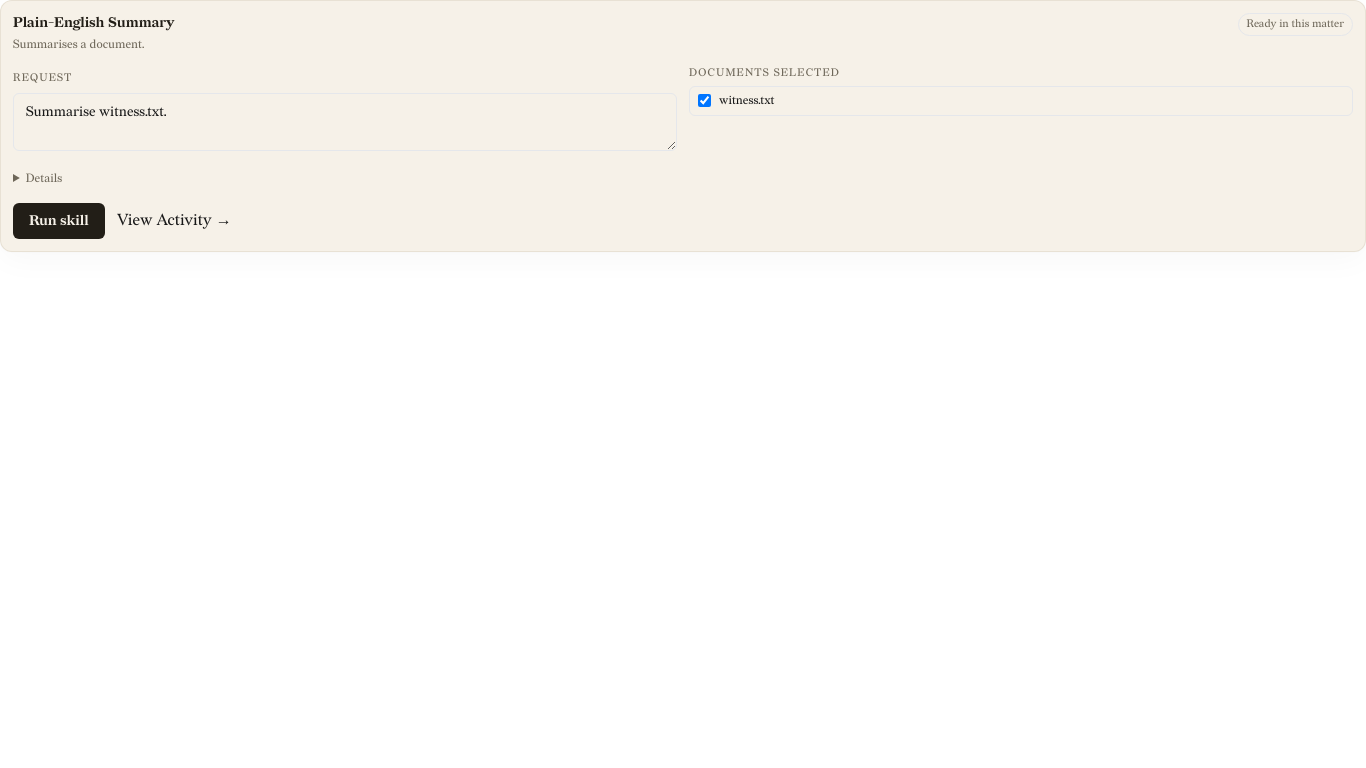
Test: GenericSkillRunner › can close a completed run from the inline runner
Click the button with test id "generic-run-demo.guided-skill-summarise".
click(59, 221)  # box x1=13 y1=203 x2=105 y2=239
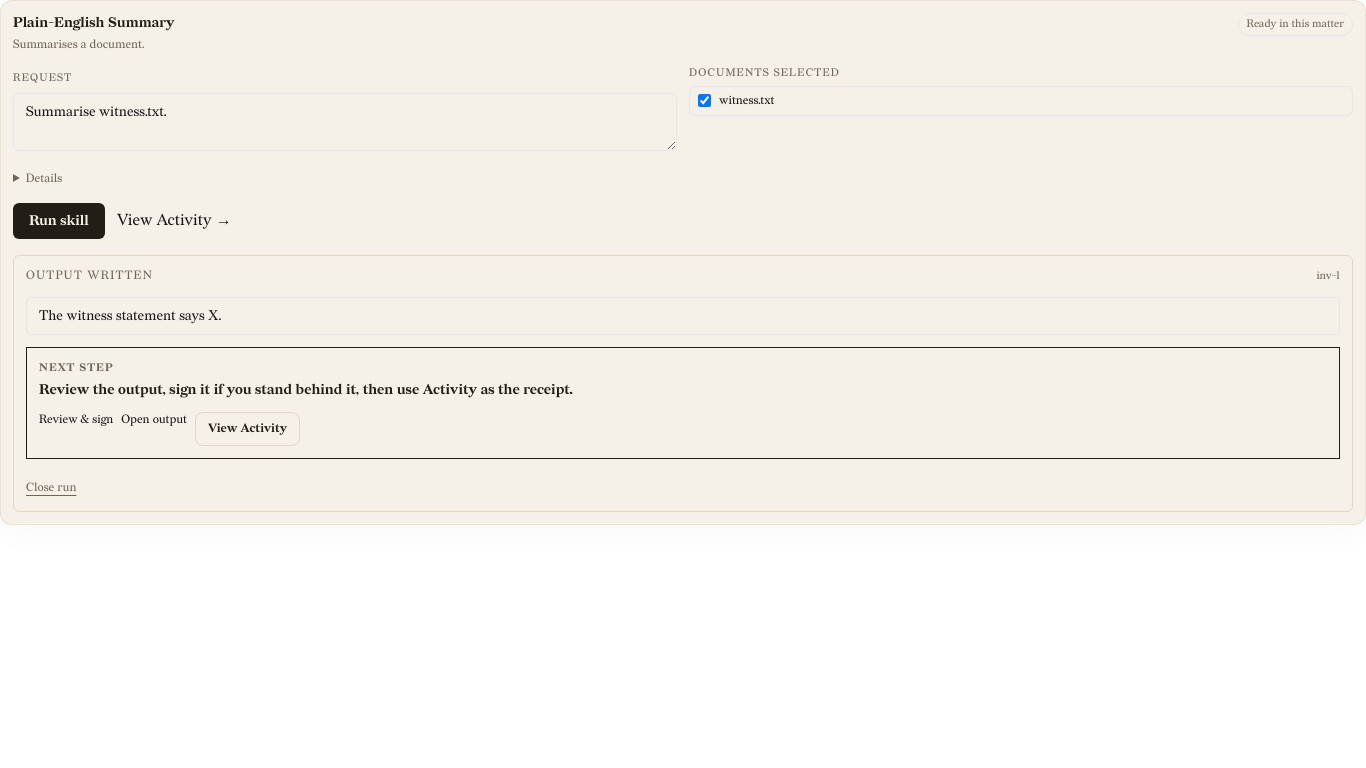
Now the element with test id "generic-runner-result" is shown, box x1=13 y1=255 x2=1353 y2=512
Now the text "The witness statement says X." is shown, box x1=26 y1=296 x2=1340 y2=334
Now the element with test id "generic-runner-next-steps-artifact-1" shows "Review the output, sign it if you stand behind it", box x1=39 y1=381 x2=573 y2=398
Click the button "Close run".
click(51, 488)  # box x1=26 y1=480 x2=76 y2=496
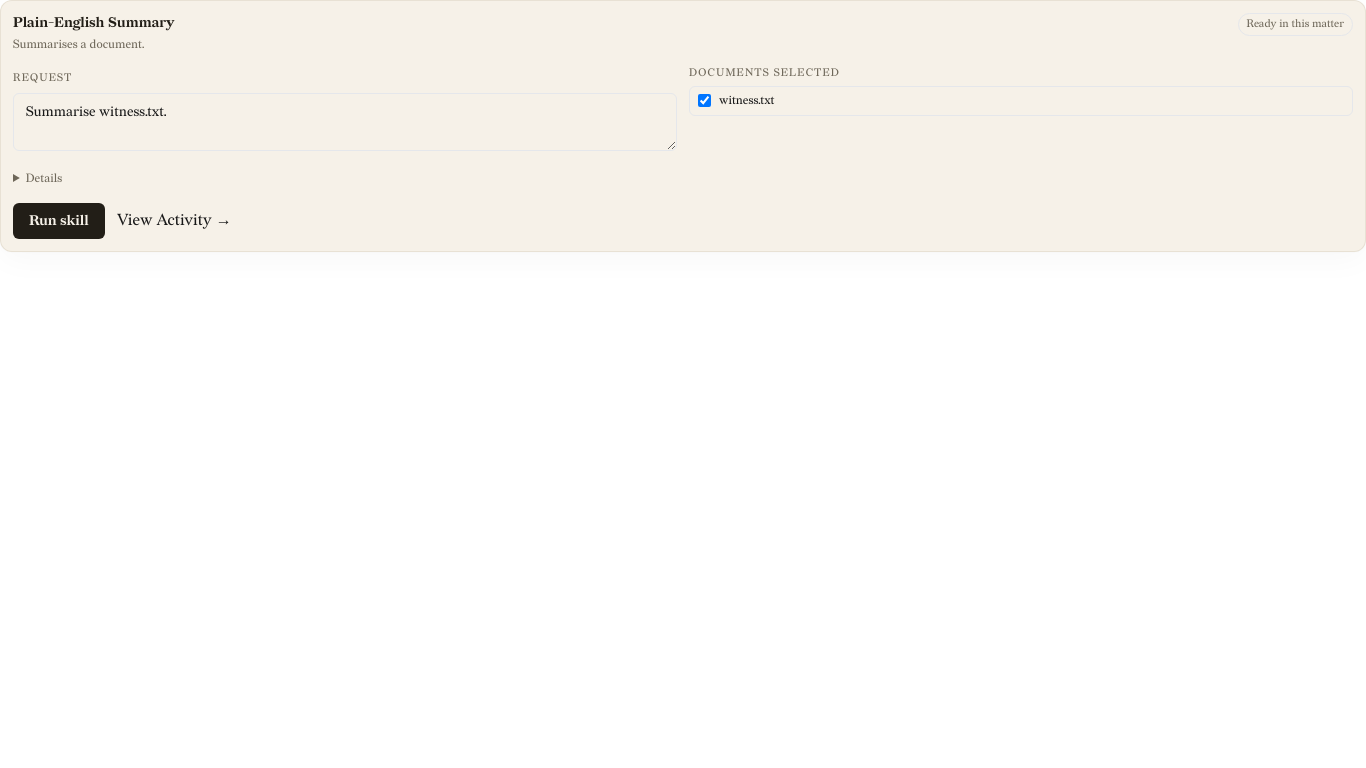
Now the element with test id "generic-runner-result" is gone
